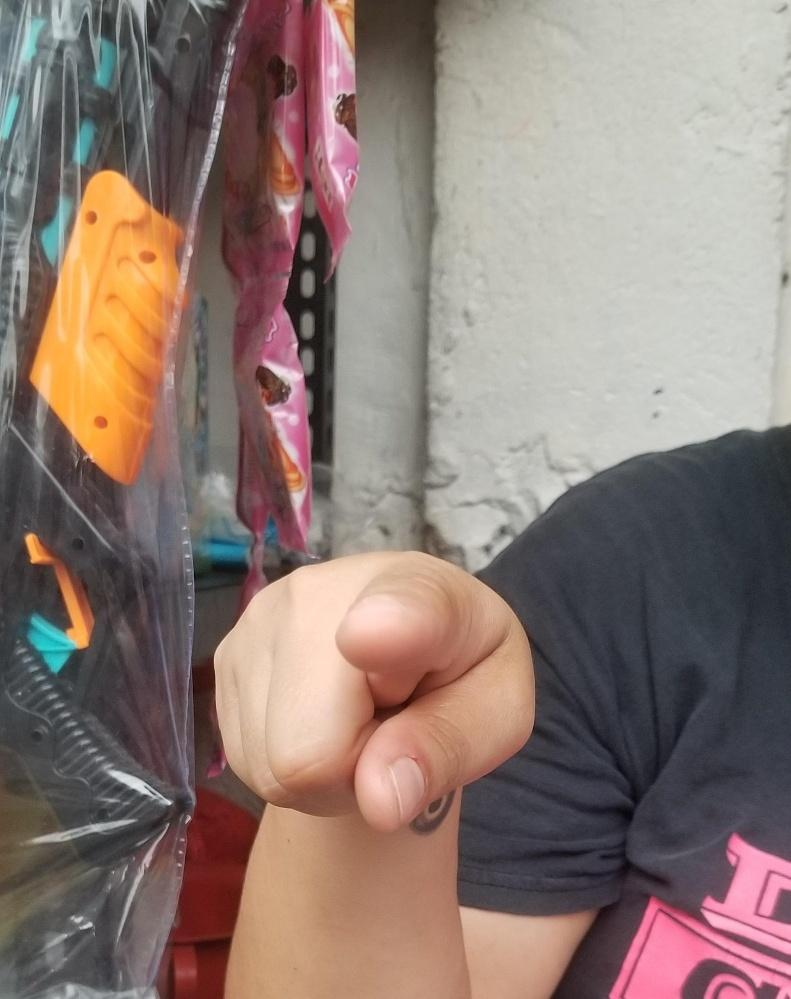z: (210, 547, 536, 836)
